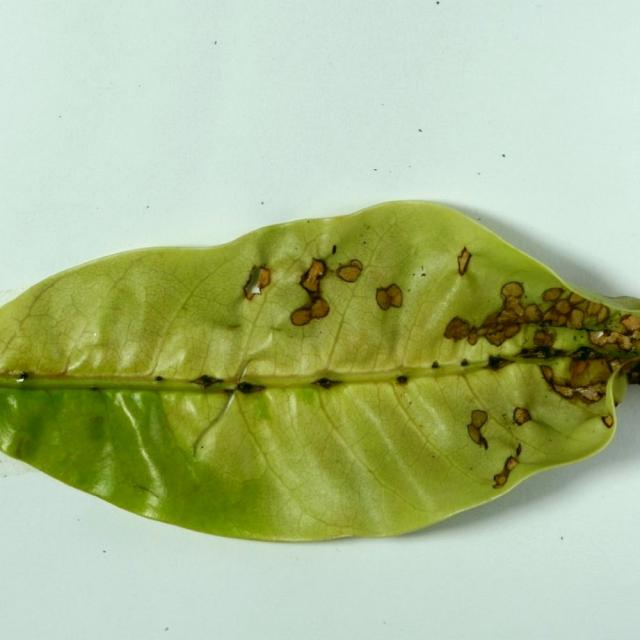Anthracnose: (445, 283, 539, 348), (271, 259, 335, 337), (541, 359, 612, 401), (587, 312, 637, 353), (17, 414, 48, 459), (191, 375, 264, 392), (243, 264, 271, 300), (467, 409, 489, 450), (493, 454, 520, 487), (8, 368, 82, 380), (375, 284, 404, 311), (443, 316, 471, 341), (336, 259, 364, 283), (86, 413, 107, 438), (567, 346, 600, 361), (457, 247, 472, 277), (132, 483, 160, 499), (512, 407, 531, 426), (585, 300, 605, 318), (314, 377, 342, 389), (542, 287, 564, 301), (5, 369, 29, 381), (15, 438, 27, 459), (568, 292, 586, 305), (225, 319, 243, 330), (601, 414, 614, 428), (396, 375, 408, 384), (515, 443, 522, 456), (460, 358, 469, 367), (431, 361, 440, 369), (154, 375, 164, 382), (331, 245, 337, 255), (90, 386, 101, 391), (421, 272, 426, 277), (418, 128, 422, 132), (501, 154, 505, 157)
Mango: (0, 201, 639, 547)
